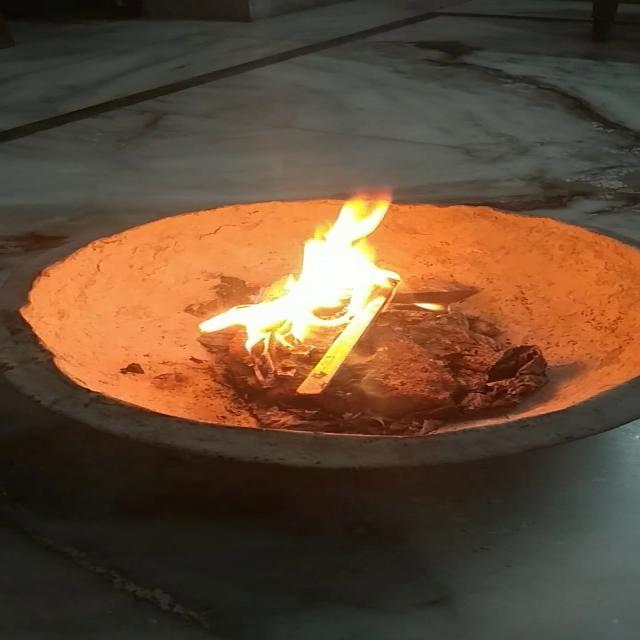Fire: (200, 188, 420, 352)
